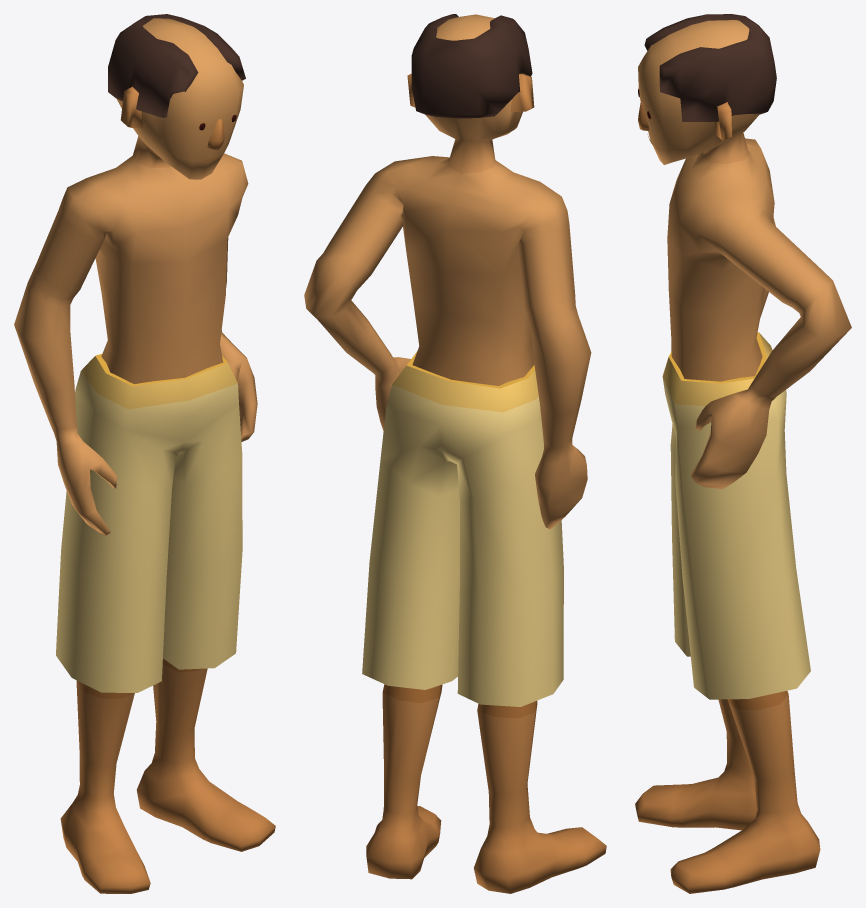
Rendered from SM_BG_NPC_06.fbx.
3 renders of one model, left to right at view 1: azimuth 30°, elevation 25°; view 2: azimuth 150°, elevation 25°; view 3: azimuth 270°, elevation 25°, orthographic.
Visible parts, largest first — view 1: SM_BG_NPC_06; view 2: SM_BG_NPC_06; view 3: SM_BG_NPC_06.
Boxes of the visible parts, x1,y1,x2,y2 form: SM_BG_NPC_06: (14, 14, 275, 893); SM_BG_NPC_06: (304, 14, 606, 893); SM_BG_NPC_06: (635, 14, 851, 893).
Size of the model in its own units: 0.5347 by 1.74 by 0.4135.
